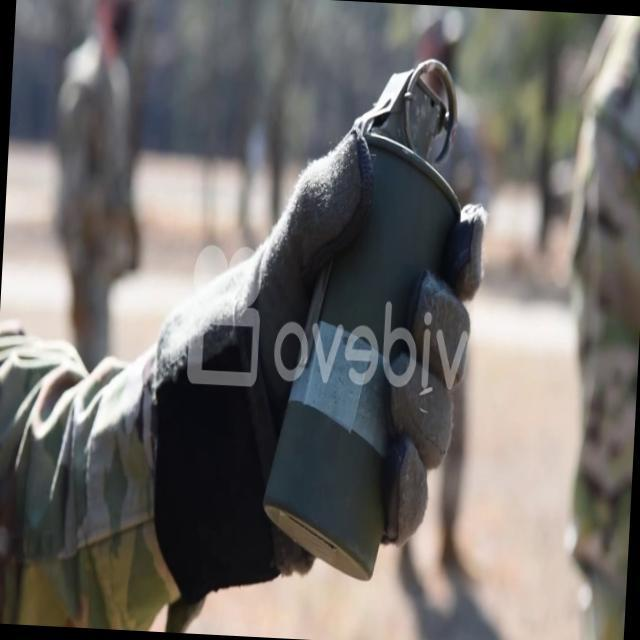grenade: (256, 43, 486, 583)
